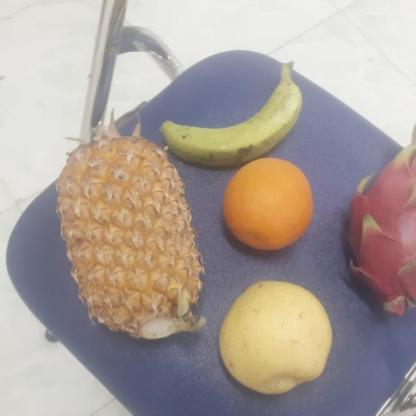banana: (159, 68, 301, 166)
orange: (218, 158, 314, 252)
pear: (210, 281, 332, 395), (219, 160, 315, 251)
pineapple: (52, 139, 204, 344)
pitaya: (339, 145, 416, 317)
